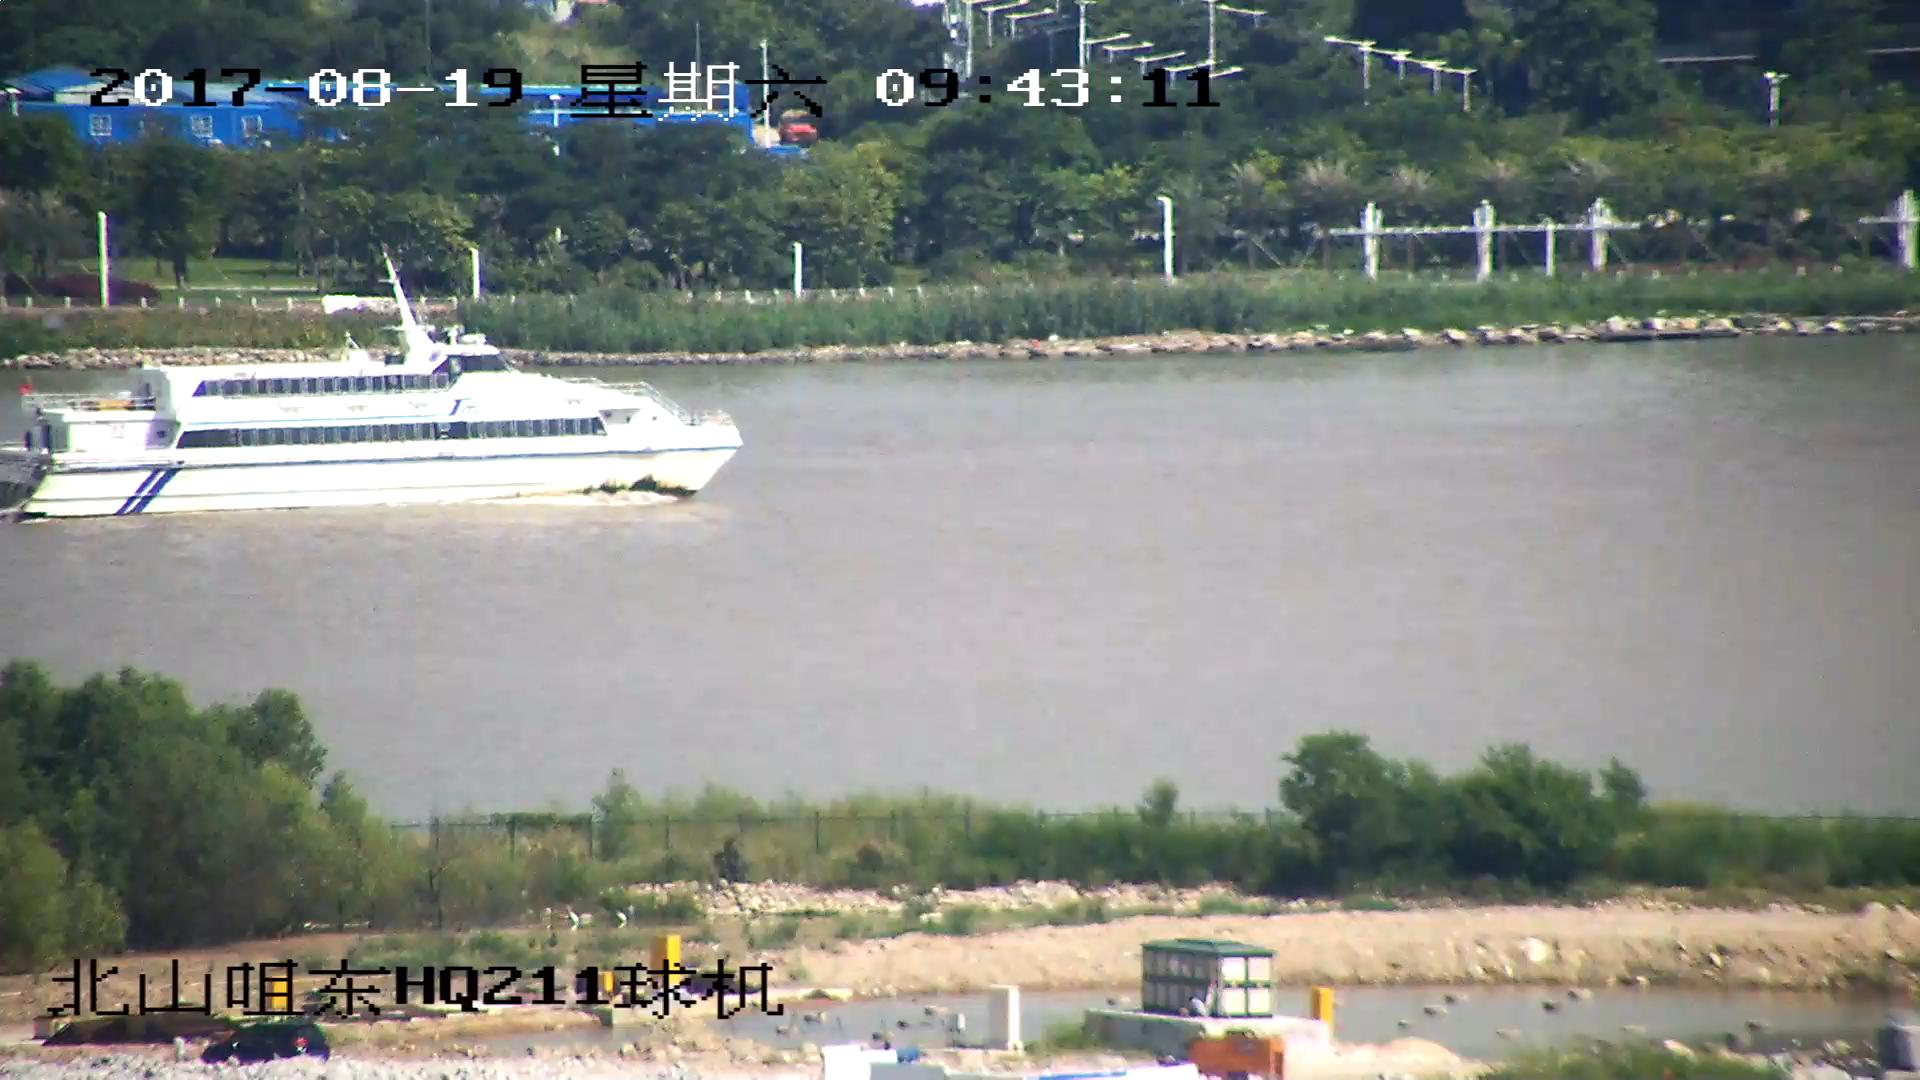passenger ship: (1, 256, 745, 515)
